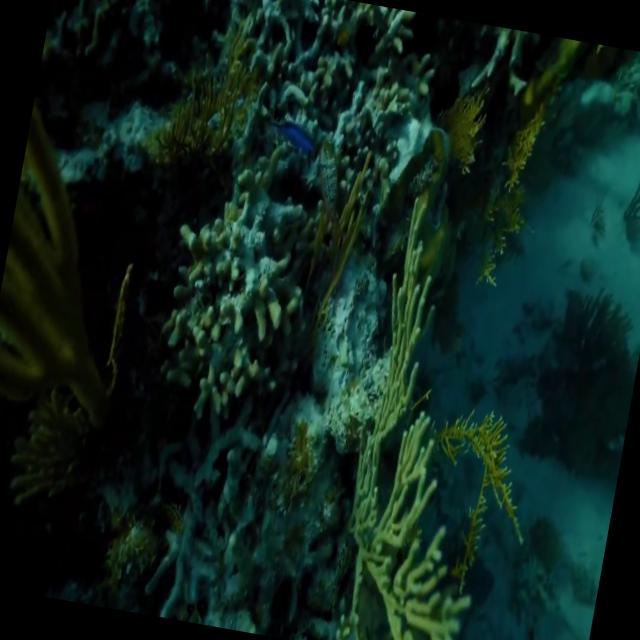fish: (264, 102, 318, 162)
